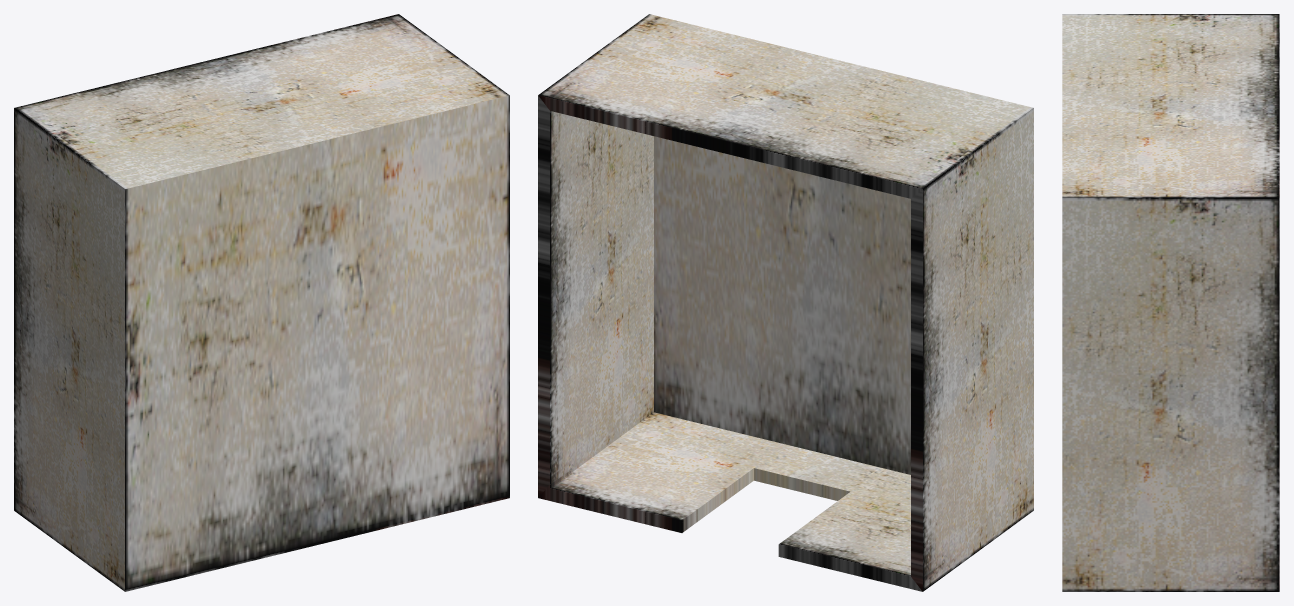
File: basicbuidling1d0w_wtf.obj
The picture shows the model from 3 angles, left to right: view 1: azimuth 30°, elevation 25°; view 2: azimuth 150°, elevation 25°; view 3: azimuth 270°, elevation 25°; orthographic projection. The views are drawn at different scales.
Visible parts, largest first — view 1: group3; view 2: group3; view 3: group3.
Part boxes in pixels (x1,y1,x2,y2): group3: [14, 14, 509, 591]; group3: [538, 14, 1033, 591]; group3: [1062, 14, 1279, 591].
Size of the model in its own units: 660 by 660 by 330.
